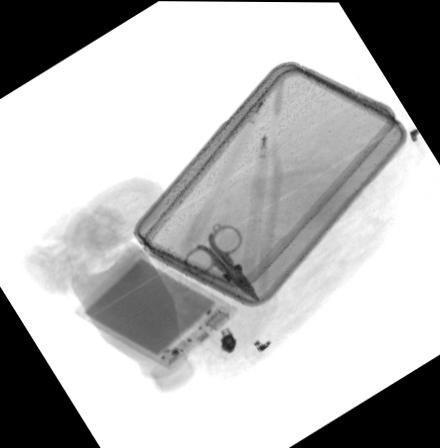Powerbank: (70, 246, 240, 372)
Scissors: (181, 223, 260, 302)
